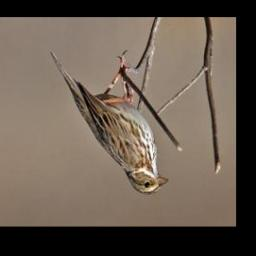Sparrow: (48, 49, 168, 195)
